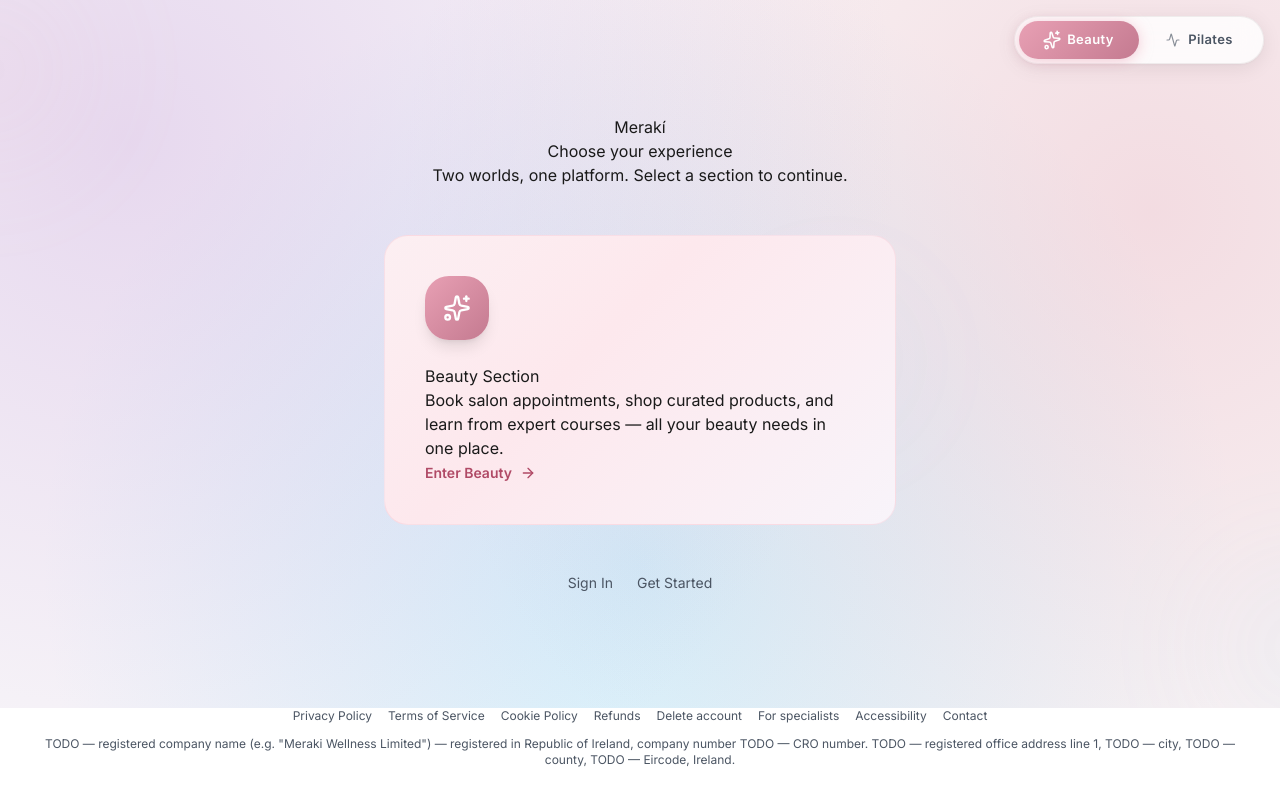
Test: RootPortal › switches to Pilates card when Pilates toggle clicked
Step 1. Click the tab "Pilates" → (1199, 40), box [1139, 21, 1259, 58]
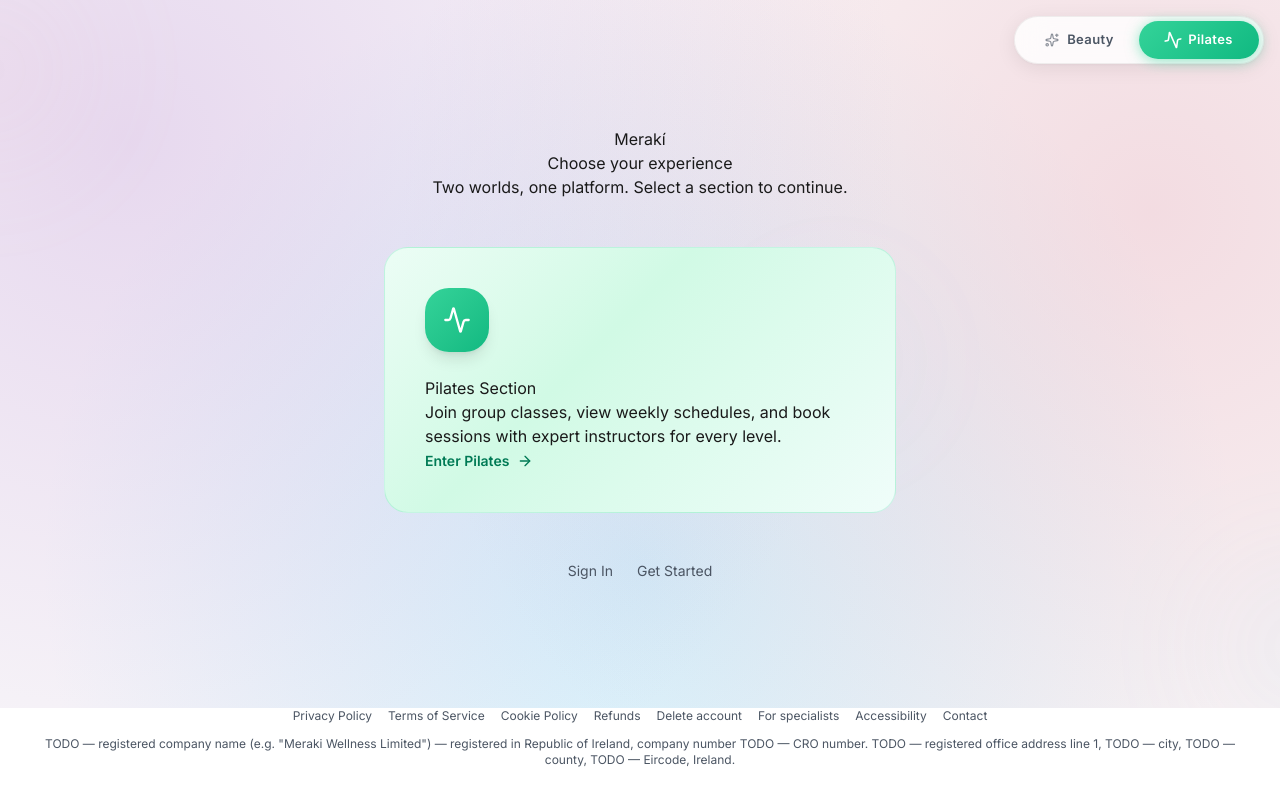
Now the heading "Pilates Section" is shown, box [425, 378, 536, 398]
Now the text "Enter Pilates" is shown, box [425, 451, 509, 471]
